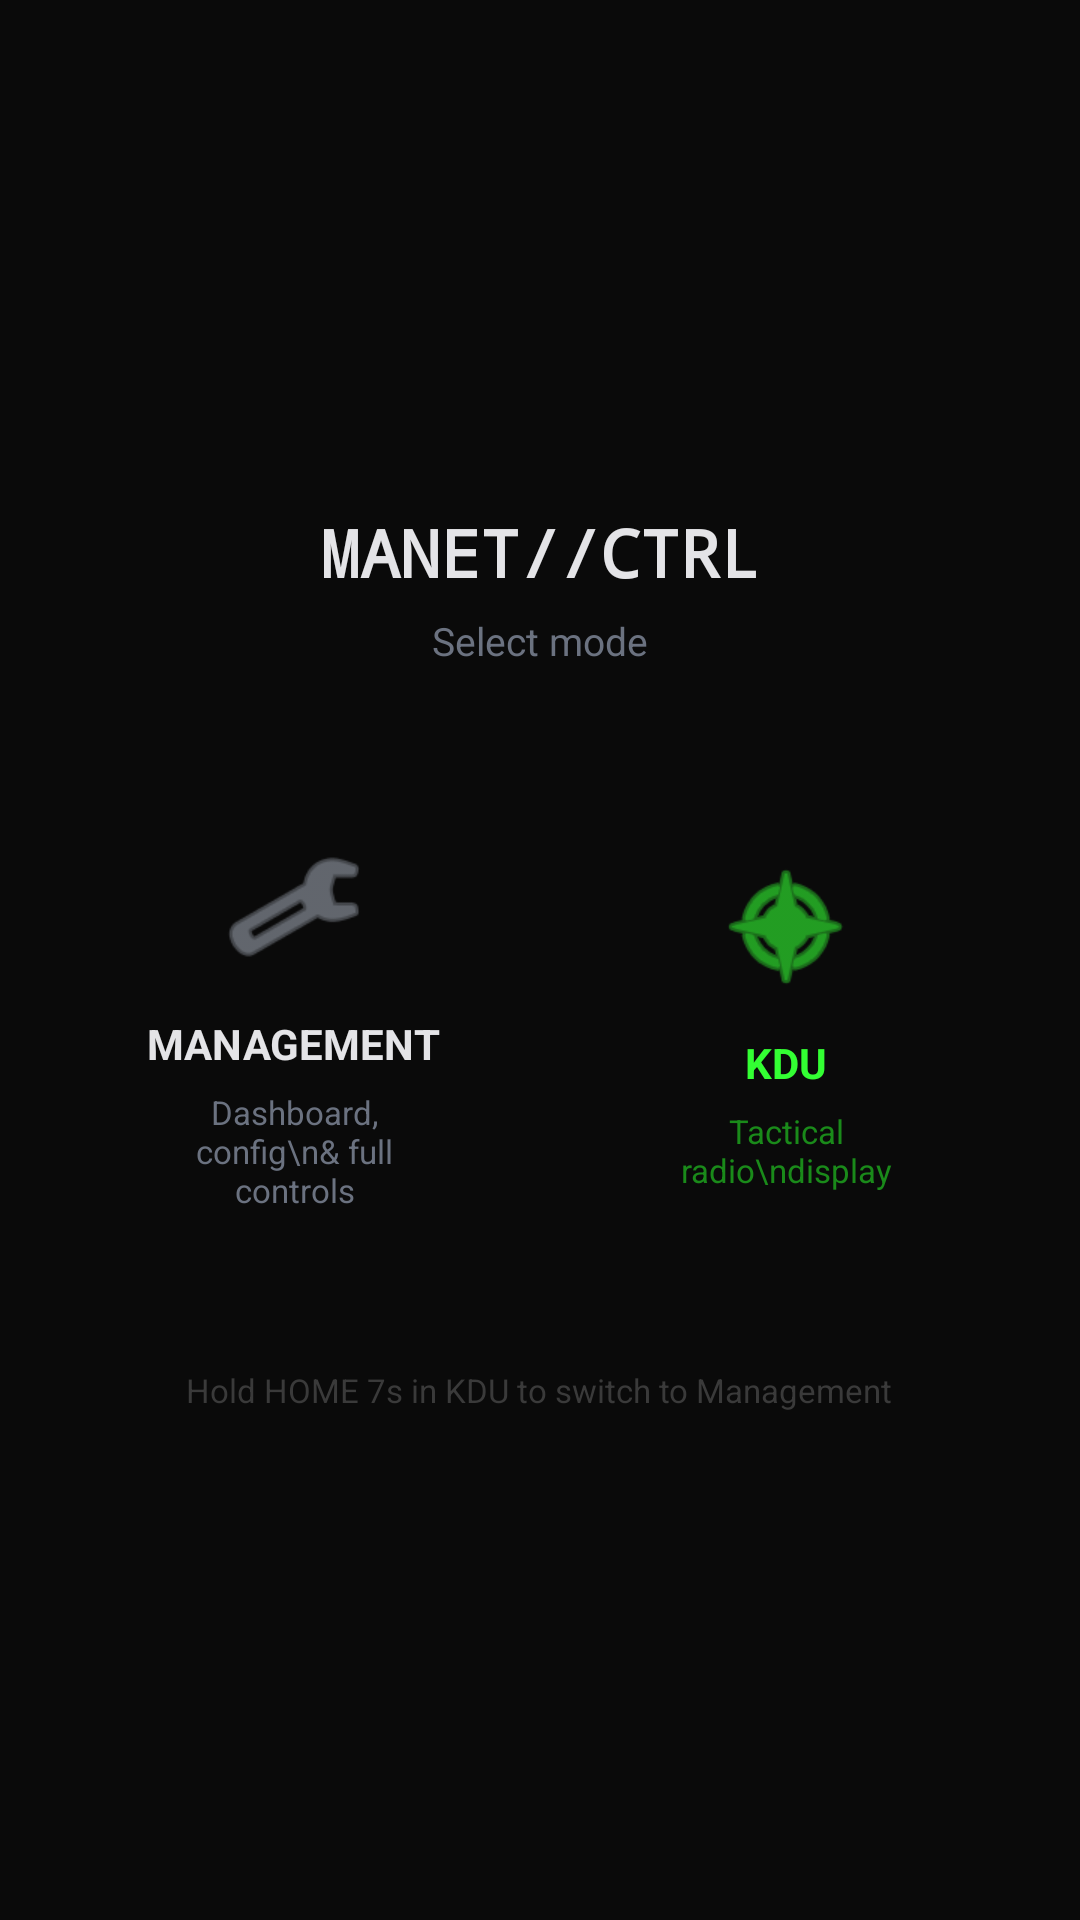

Where to tap for icons on this 1080x1920 app screen, as (x=x, y=y):
compass: (x=785, y=927)
